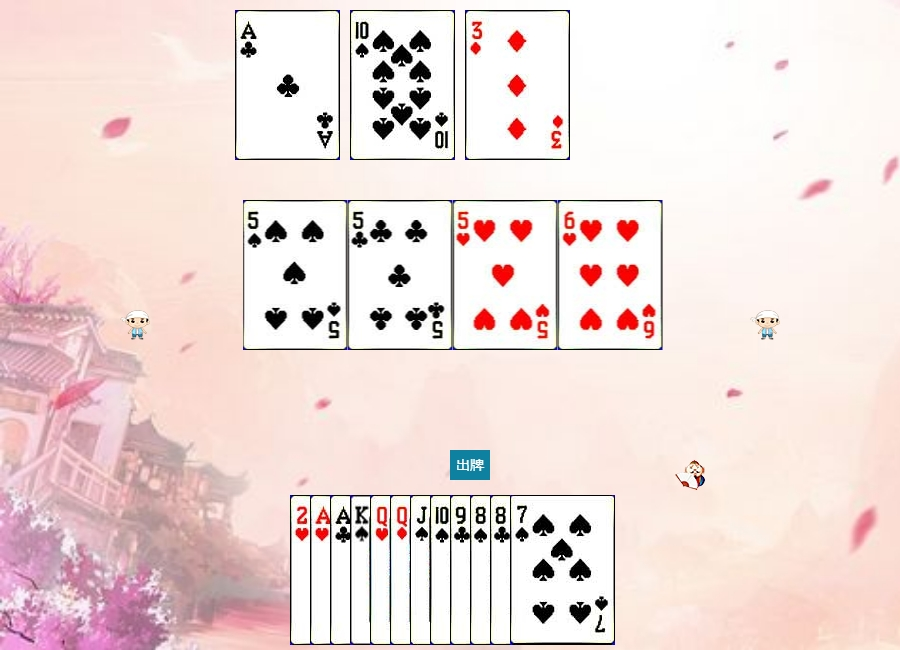10~4: (350, 10, 455, 160), (430, 495, 535, 645)
11~4: (410, 495, 515, 645)
12~1: (390, 495, 495, 645)
12~3: (370, 495, 475, 645)
13~4: (350, 495, 455, 645)
14~2: (235, 10, 340, 160), (330, 495, 435, 645)
14~3: (310, 495, 415, 645)
15~3: (290, 495, 395, 645)
3~1: (465, 10, 570, 160)
5~2: (348, 200, 453, 350)
5~3: (453, 200, 558, 350)
5~4: (243, 200, 348, 350)
6~3: (558, 200, 663, 350)
7~4: (510, 495, 615, 645)
8~2: (490, 495, 595, 645)
8~4: (470, 495, 575, 645)
9~2: (450, 495, 555, 645)
